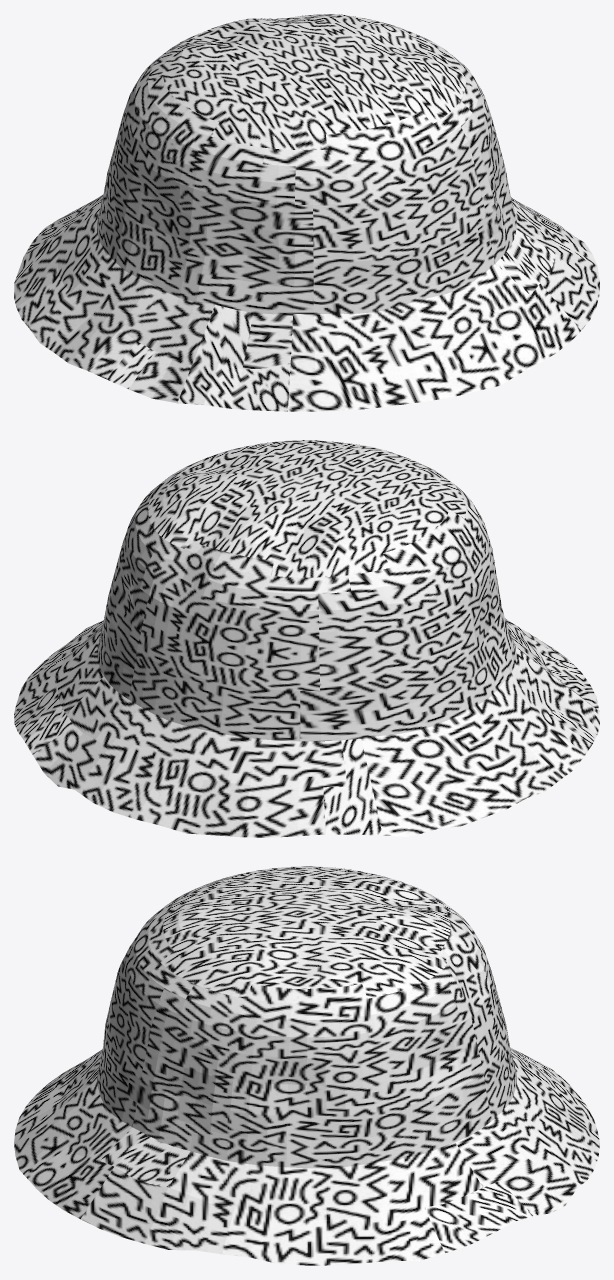
File: topisayabundar2.fbx
The picture shows the model from 3 angles, top to bottom: view 1: azimuth 30°, elevation 25°; view 2: azimuth 150°, elevation 25°; view 3: azimuth 270°, elevation 25°; orthographic projection.
Parts seen in each view (by area): view 1: Sphere; view 2: Sphere; view 3: Sphere.
Boxes of the visible parts, bbox=[...] form: Sphere: bbox=[14, 14, 599, 411]; Sphere: bbox=[14, 440, 599, 837]; Sphere: bbox=[14, 866, 599, 1265].
Bounding box in the file's own units: 268 × 122 × 268.
Materials: 1 (1 with a texture image).
